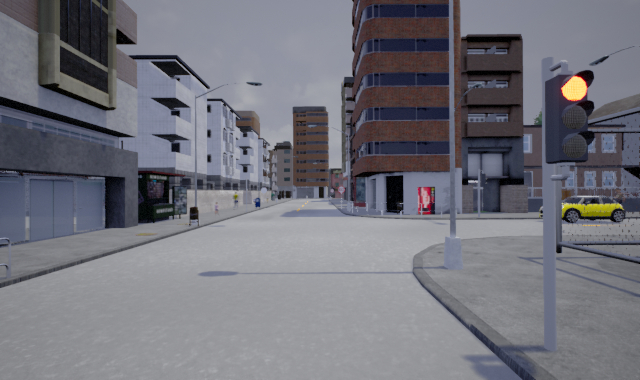pedestrian: (231, 189, 240, 211), (214, 201, 221, 215)
traffic_light: (544, 70, 595, 163)
traffic_sign: (337, 186, 345, 193)
vehicle: (534, 195, 629, 223)
